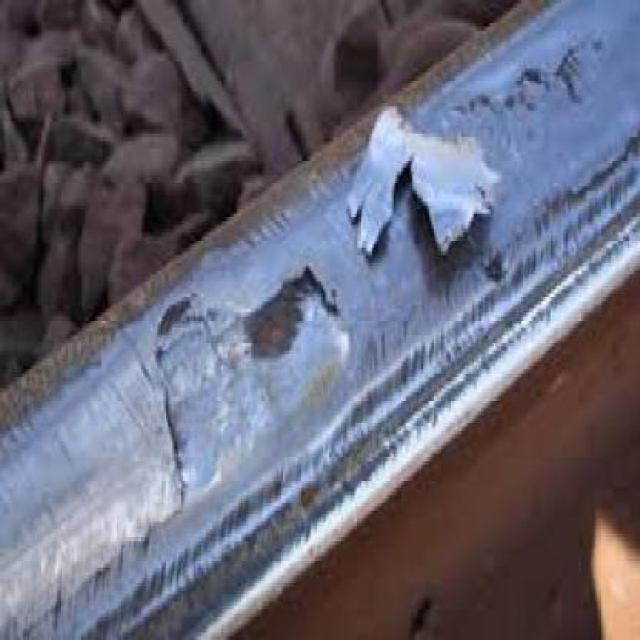defective: (8, 10, 640, 638)
